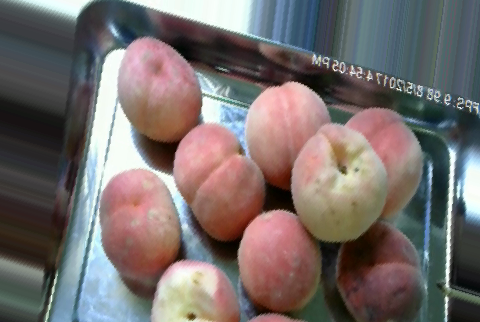Peach: (287, 121, 388, 241), (172, 122, 264, 242), (331, 107, 427, 221), (98, 167, 181, 285), (114, 36, 203, 141), (236, 208, 323, 315), (334, 221, 422, 322), (246, 83, 330, 187), (150, 259, 243, 322)
